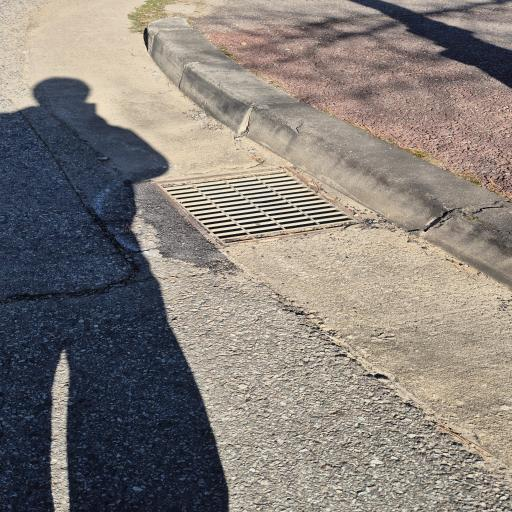drain: (156, 172, 356, 245)
